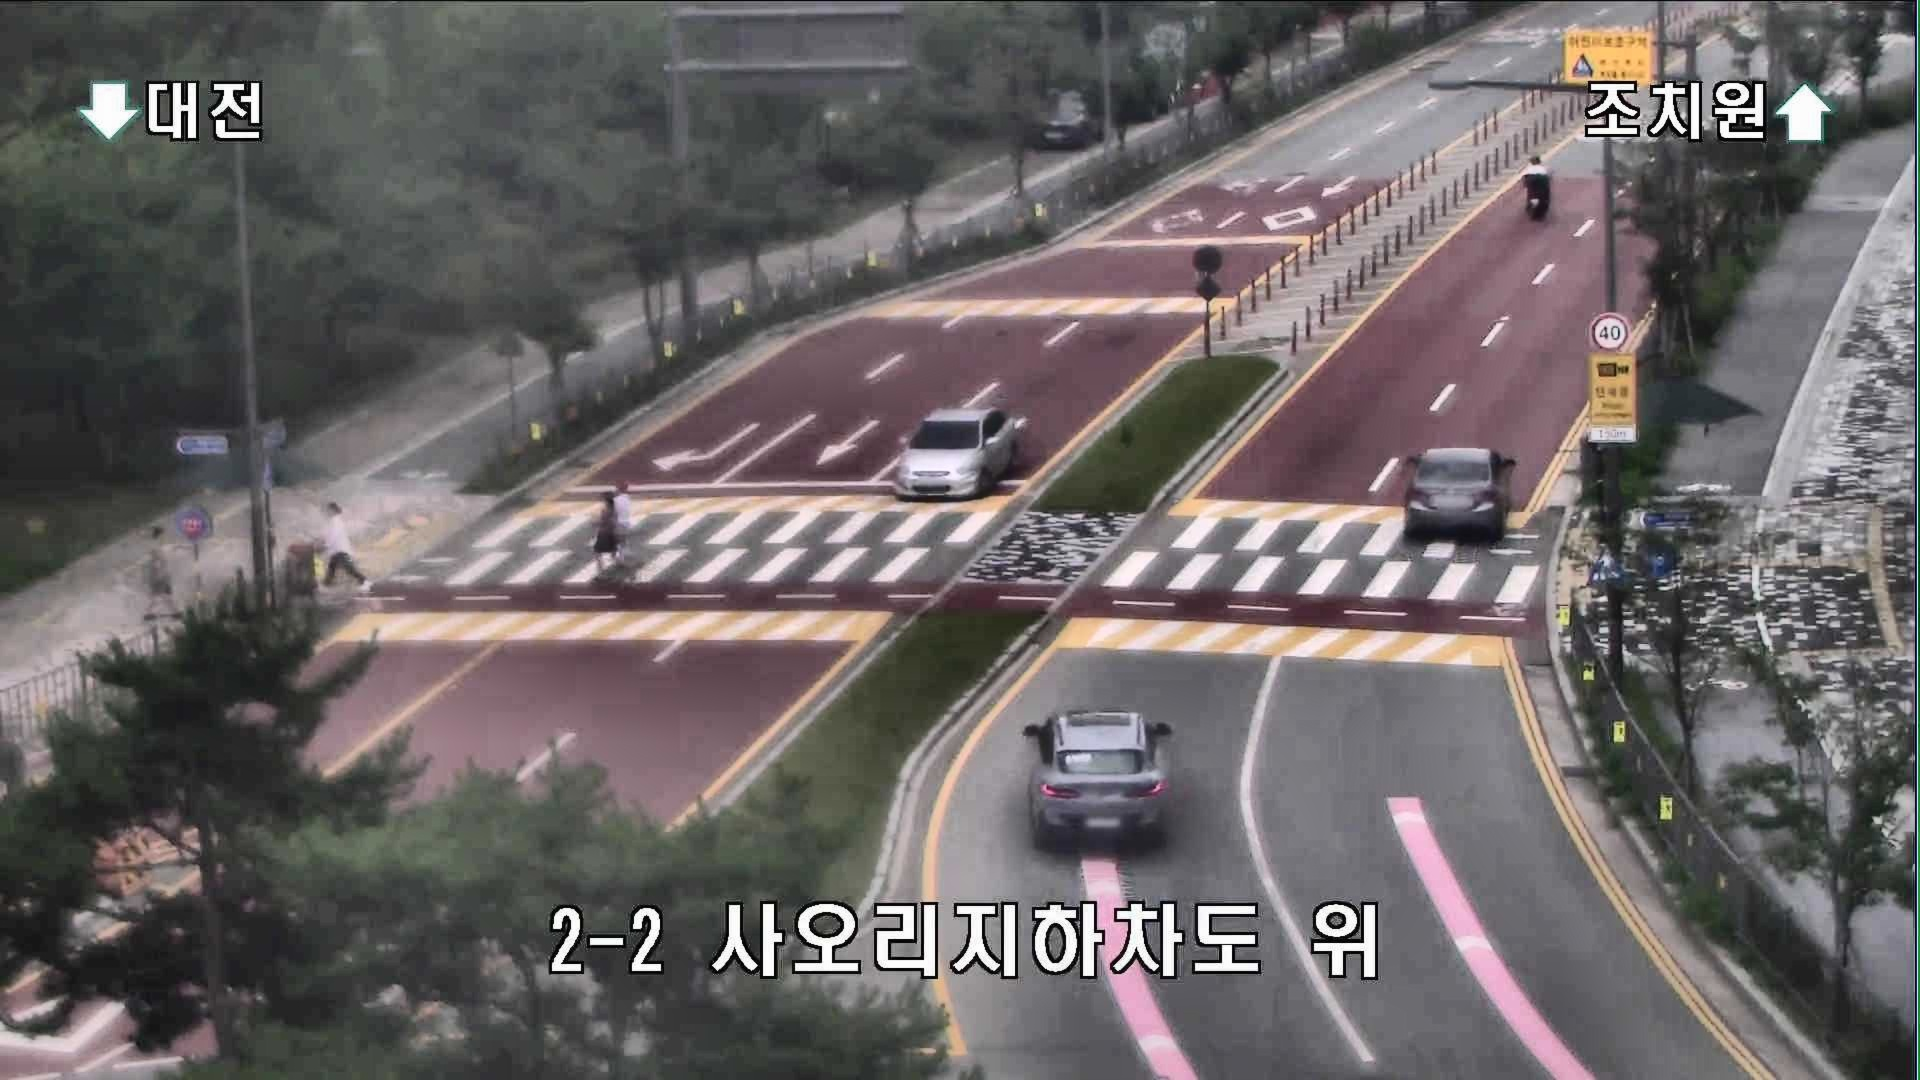crosswalk: (585, 491, 629, 585), (605, 479, 641, 568)
sidewalk: (316, 498, 371, 596), (136, 525, 181, 622)
